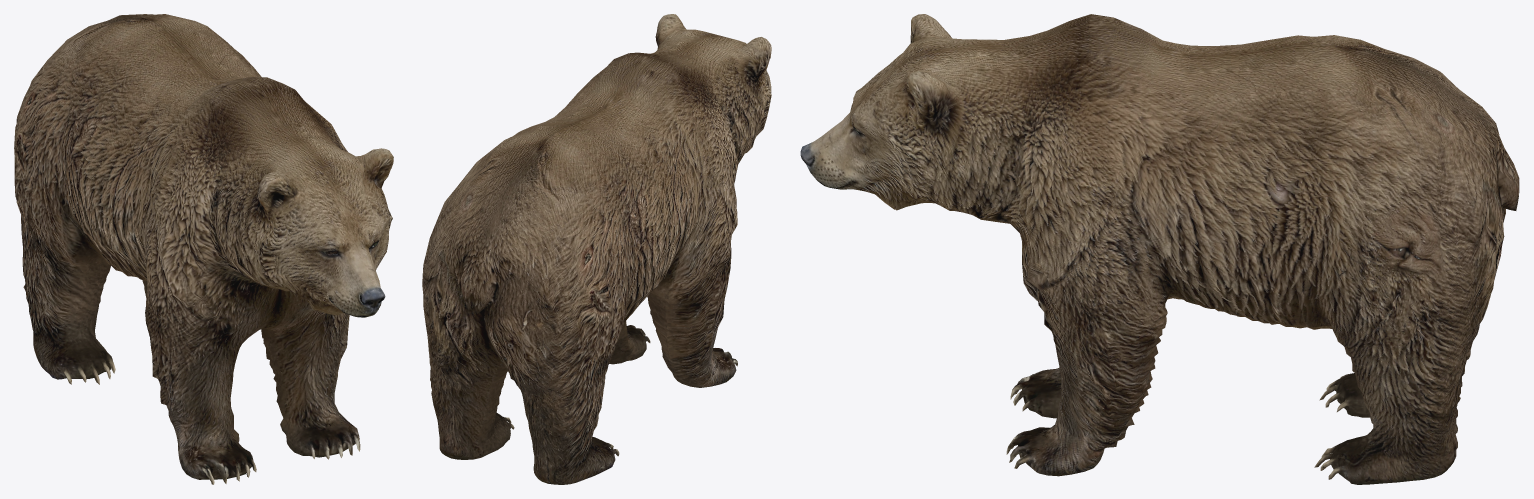
File: bear.glb
The picture shows the model from 3 angles, left to right: view 1: azimuth 30°, elevation 25°; view 2: azimuth 150°, elevation 25°; view 3: azimuth 270°, elevation 25°; orthographic projection. The views are drawn at different scales.
Visible parts, largest first — view 1: -9f37-43f9-890b-dd3649beea28; view 2: -9f37-43f9-890b-dd3649beea28; view 3: -9f37-43f9-890b-dd3649beea28.
Boxes of the visible parts, left/top/right/bottom form: -9f37-43f9-890b-dd3649beea28: left=14, top=14, right=393, bottom=484; -9f37-43f9-890b-dd3649beea28: left=422, top=14, right=771, bottom=484; -9f37-43f9-890b-dd3649beea28: left=800, top=14, right=1519, bottom=484.
Size of the model in its own units: 0.3809 by 0.6282 by 1.
1 material, 1 textured.
